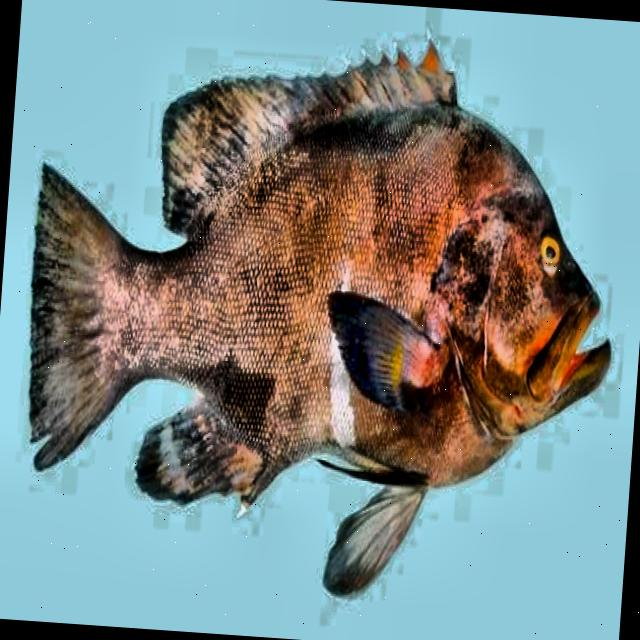fish: (8, 4, 634, 622)
